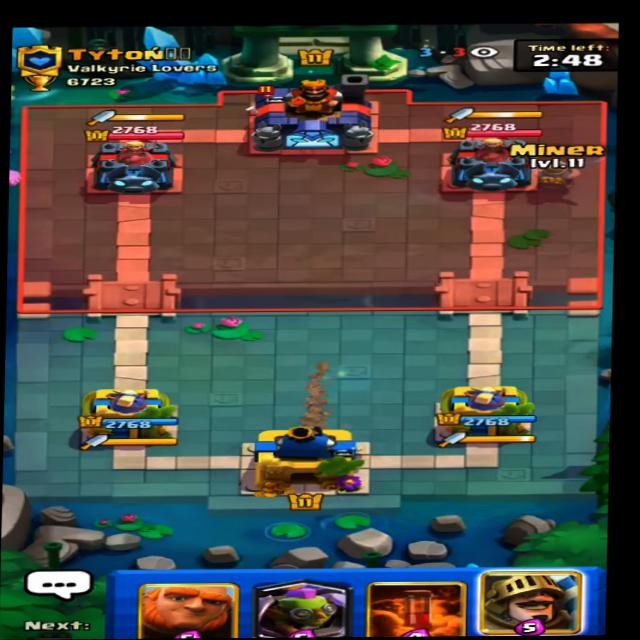ice-spirit: (246, 87, 291, 115)
